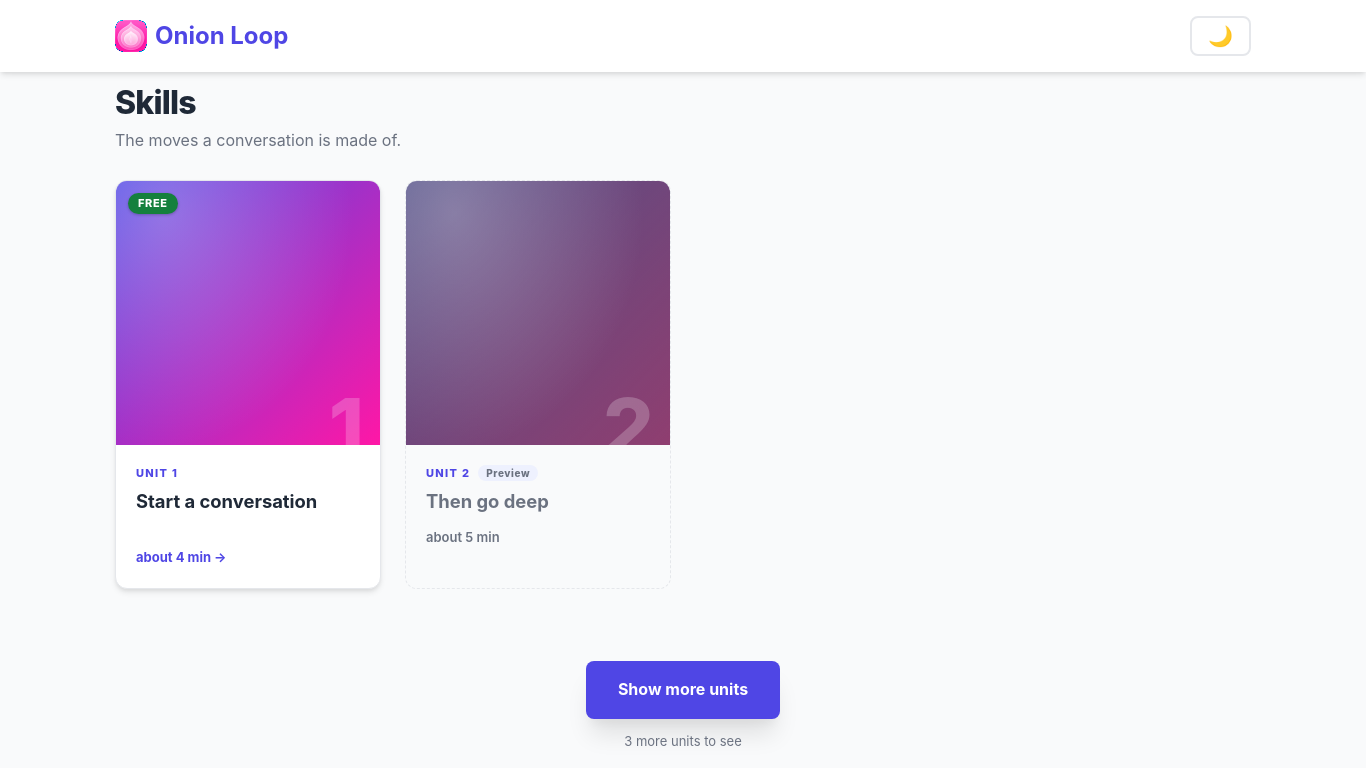
Test: a banner can be dismissed
(page scrolled)
Click the button "UNIT 1 Start a conversation Free about 4 min →" at (248, 384), box [115, 180, 381, 589]
(page scrolled)
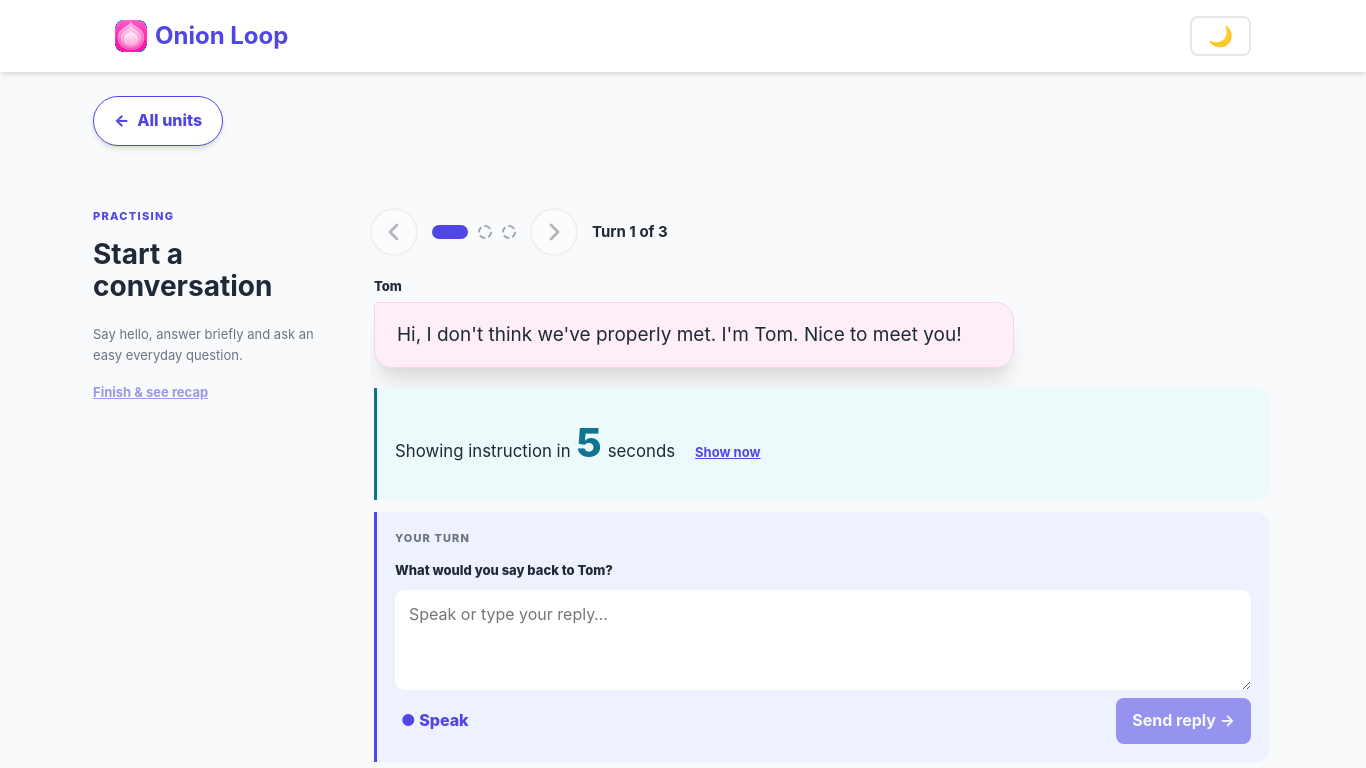
Type "Hi Tom." into the text box at (823, 640), box [395, 590, 1251, 690]
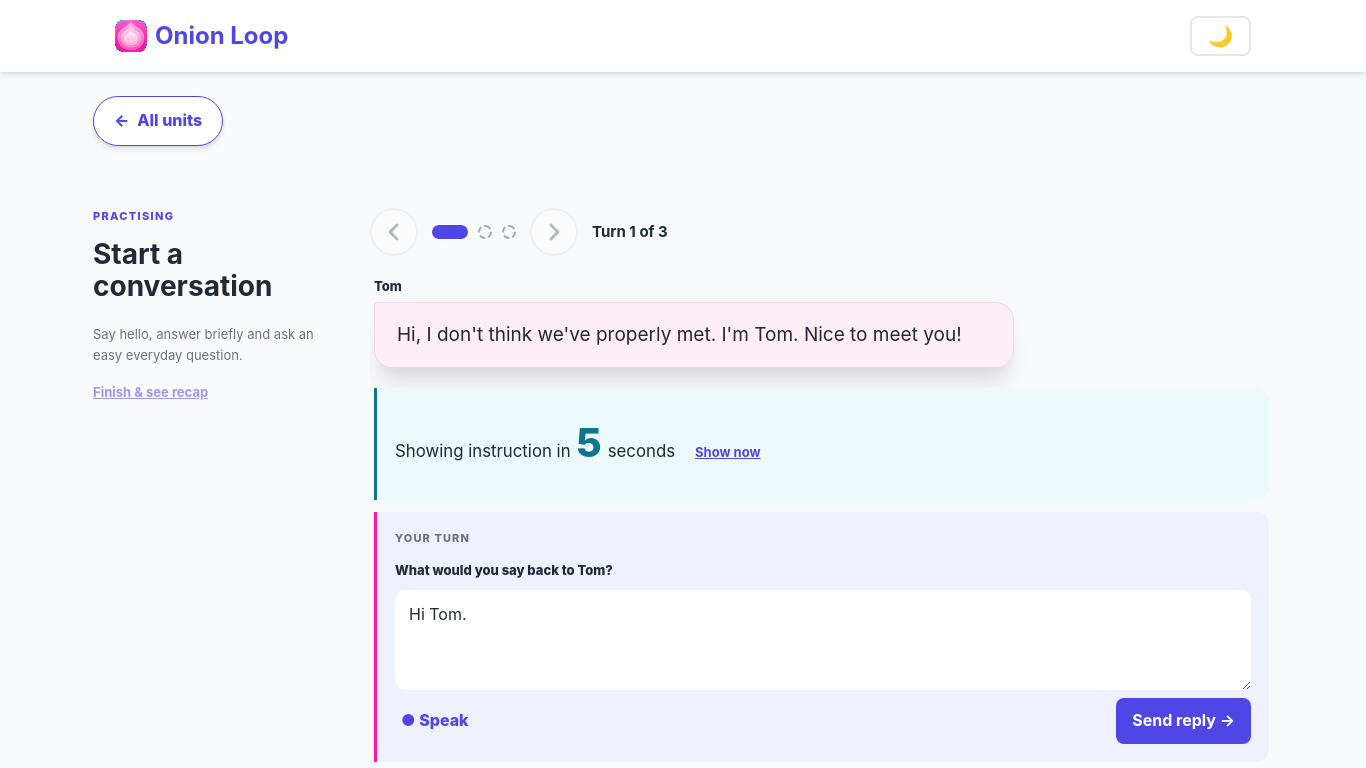
Click the button "Send reply →" at (1184, 721), box [1116, 698, 1251, 744]
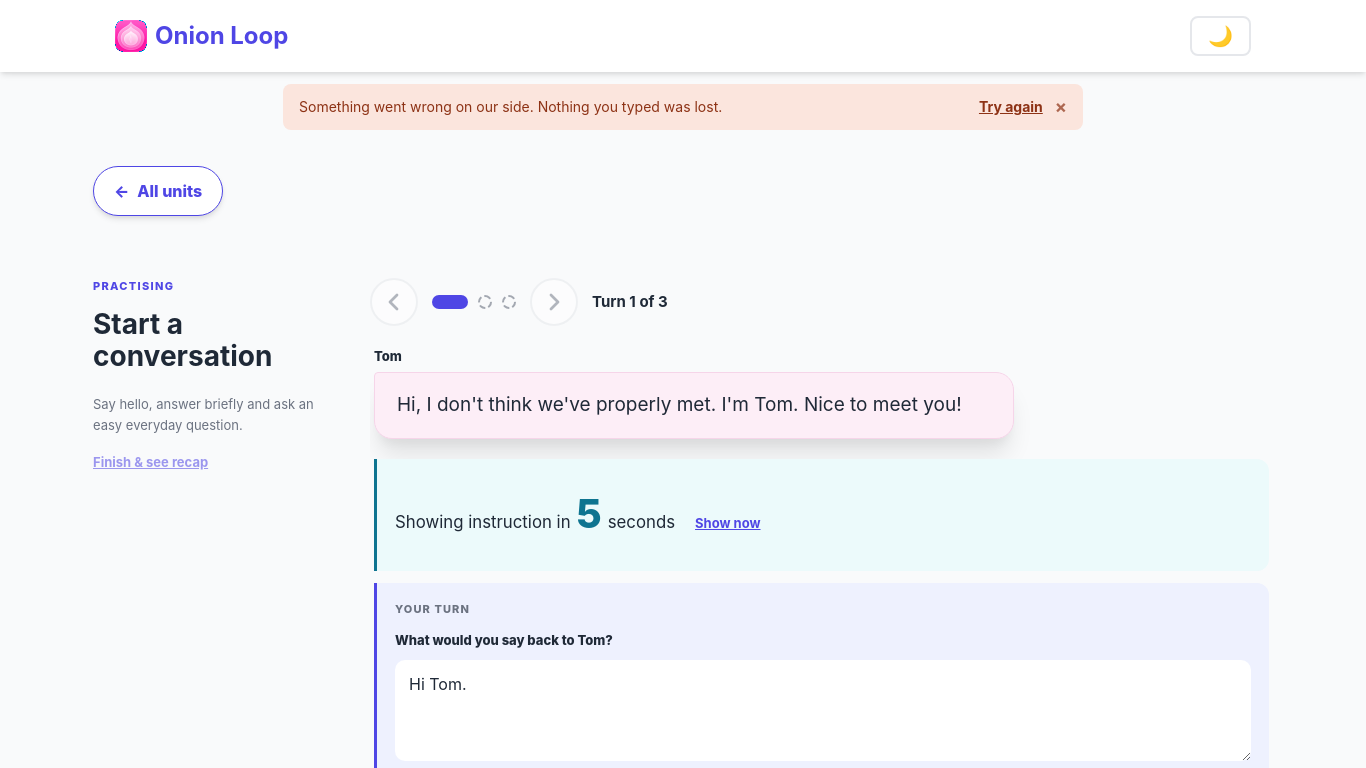
Click the button named "dismiss" at (1061, 107), box [1055, 98, 1067, 116]
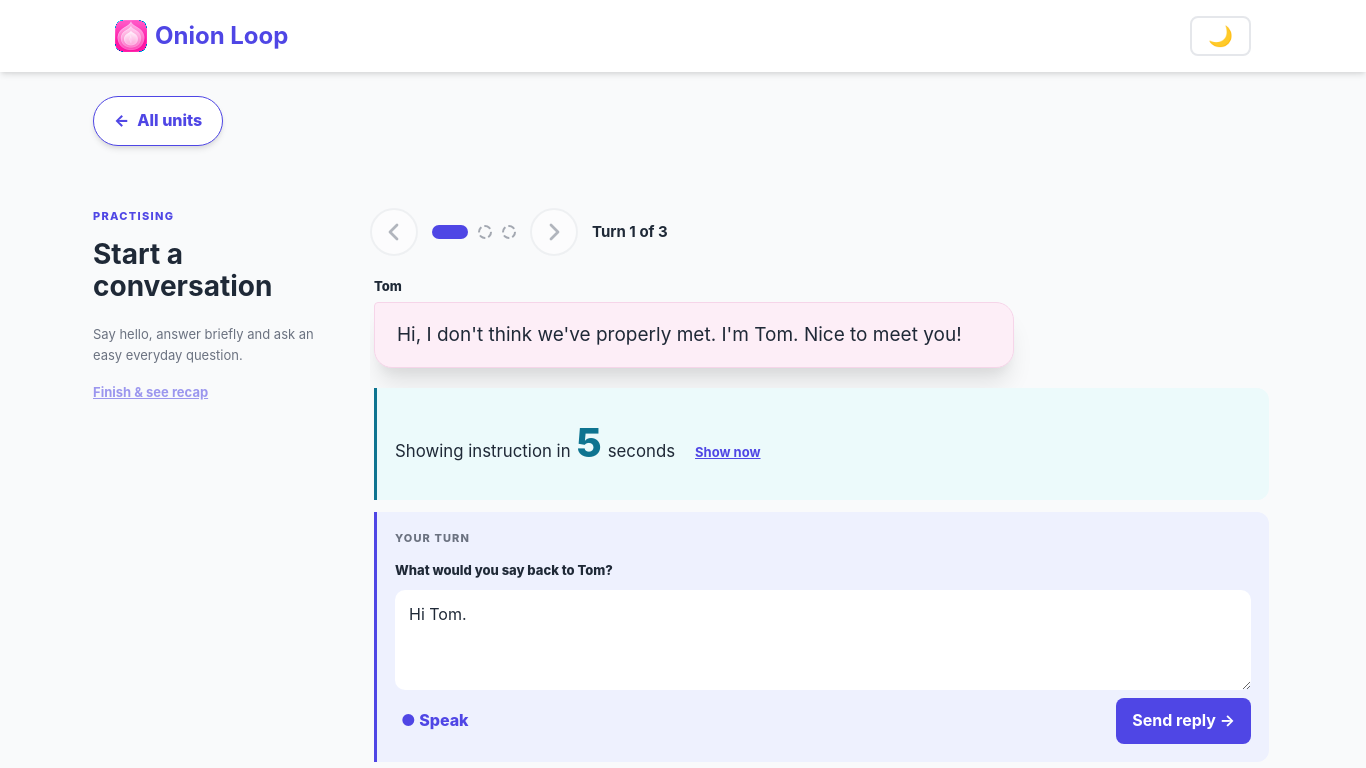
Check: the message "Something went wrong on our side. Nothing you typed was lost. Try again ×" is gone
